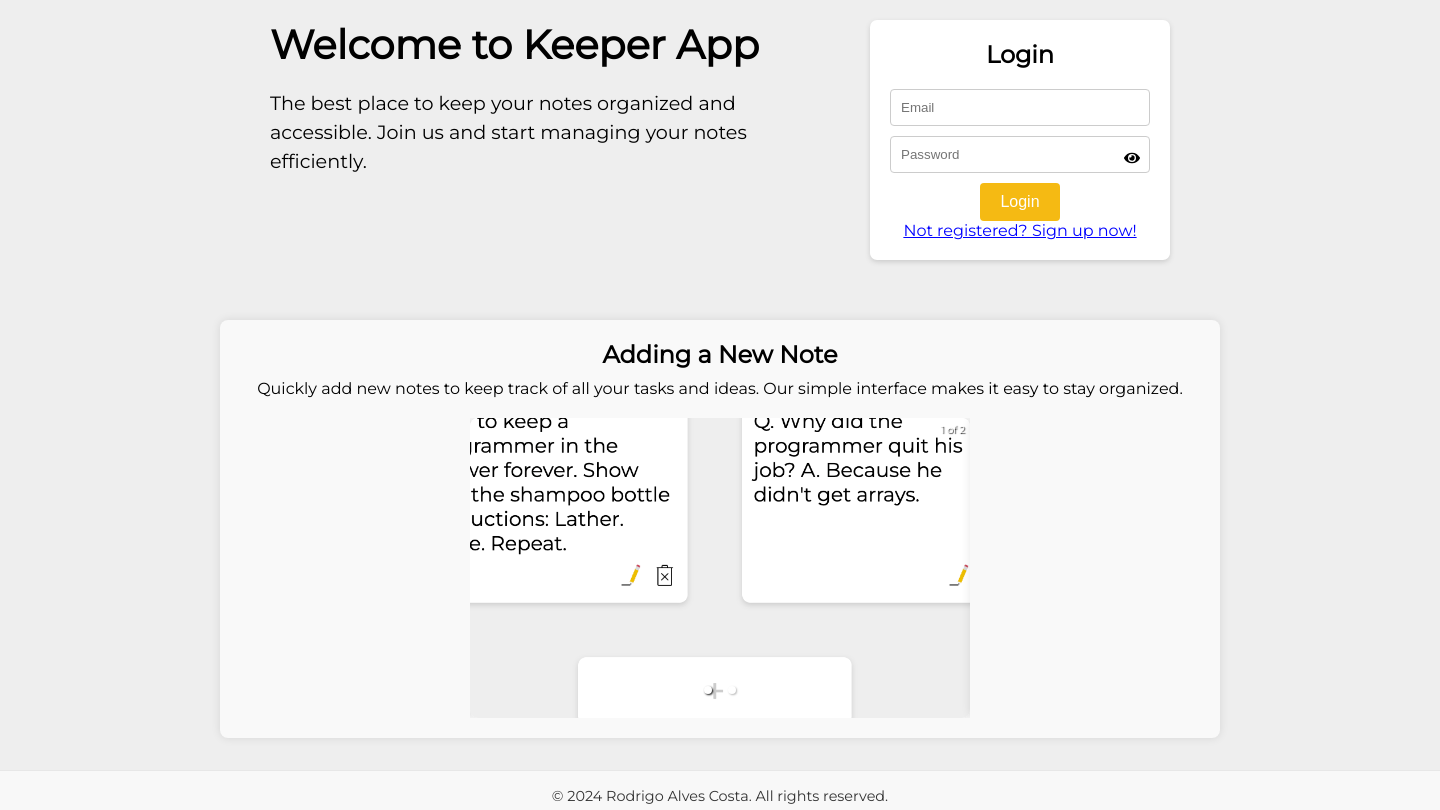
Scenario: App › should edit an existing note
Type "jon@doe.com" into the field with placeholder "Email".
click(1020, 108); type("jon@doe.com")  # box [890,89,1150,126]
Type "123456" into the password field with placeholder "Password".
click(1020, 154); type("123456")  # box [890,136,1150,173]
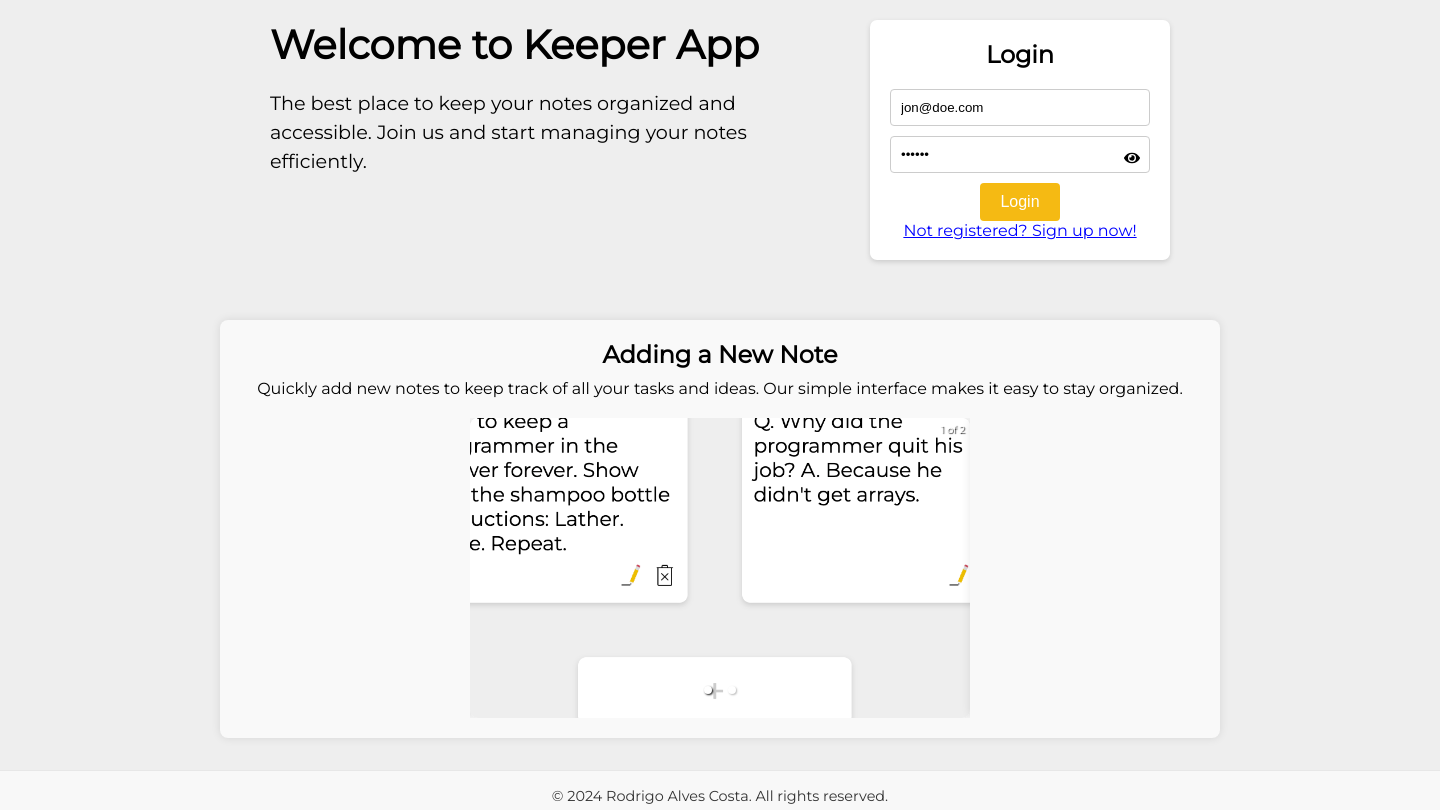
Click the button "Login".
click(1020, 202)  # box [980,183,1060,221]
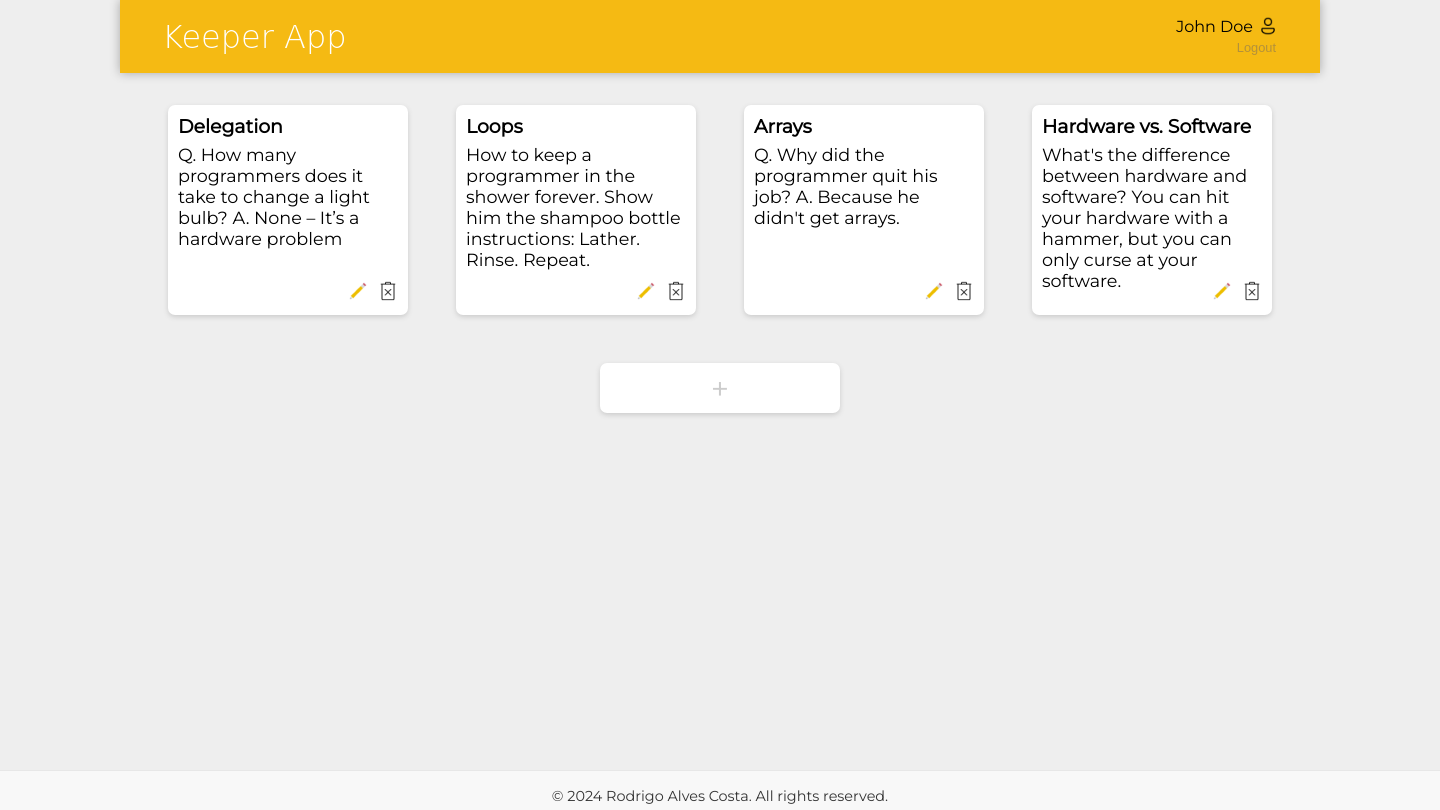
Click the picture with alt text "Edit" below "Delegation".
click(358, 291)  # box [348,281,368,301]
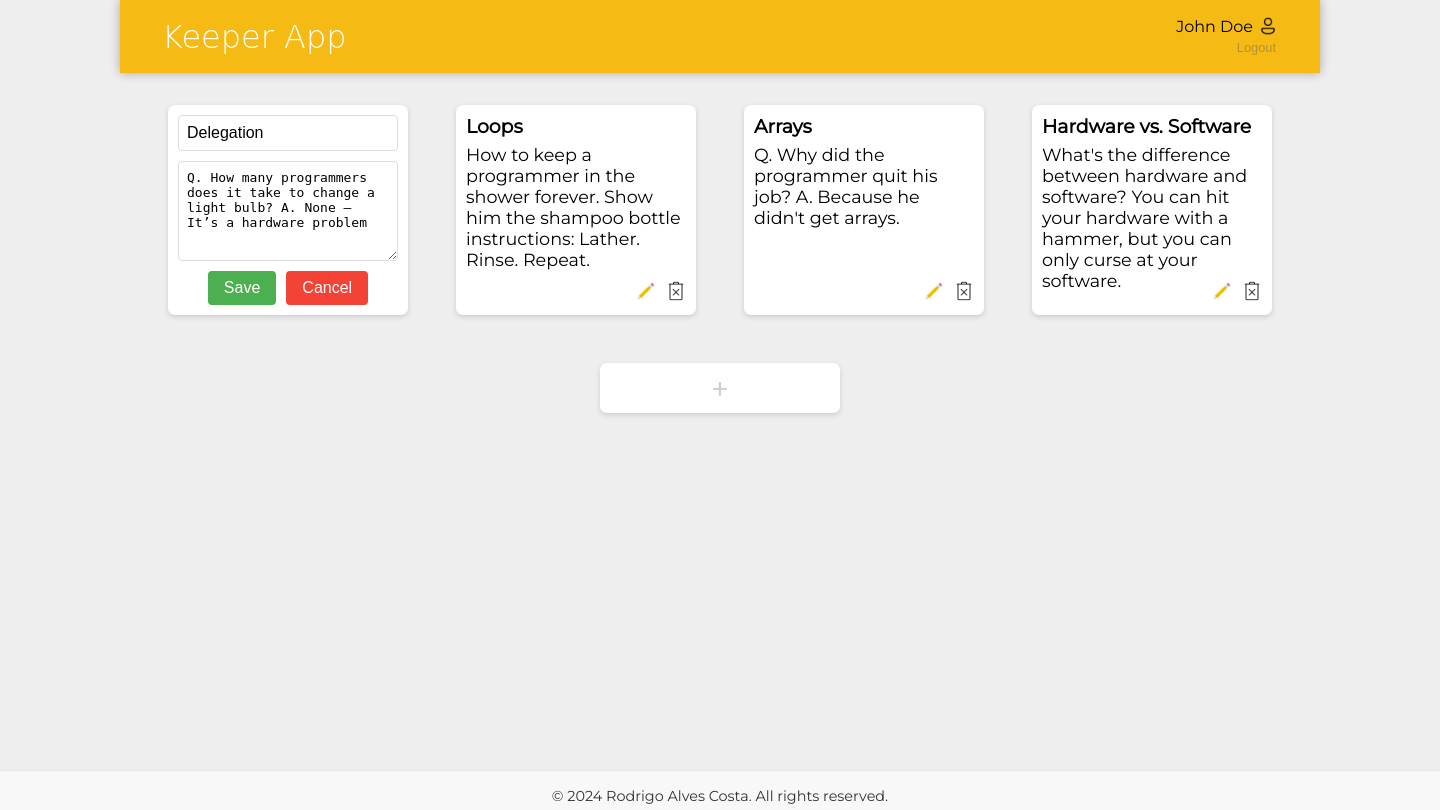
Replace the text in the field with placeholder "Title" with "Edited Title" at (288, 133), box [178,115,398,151]
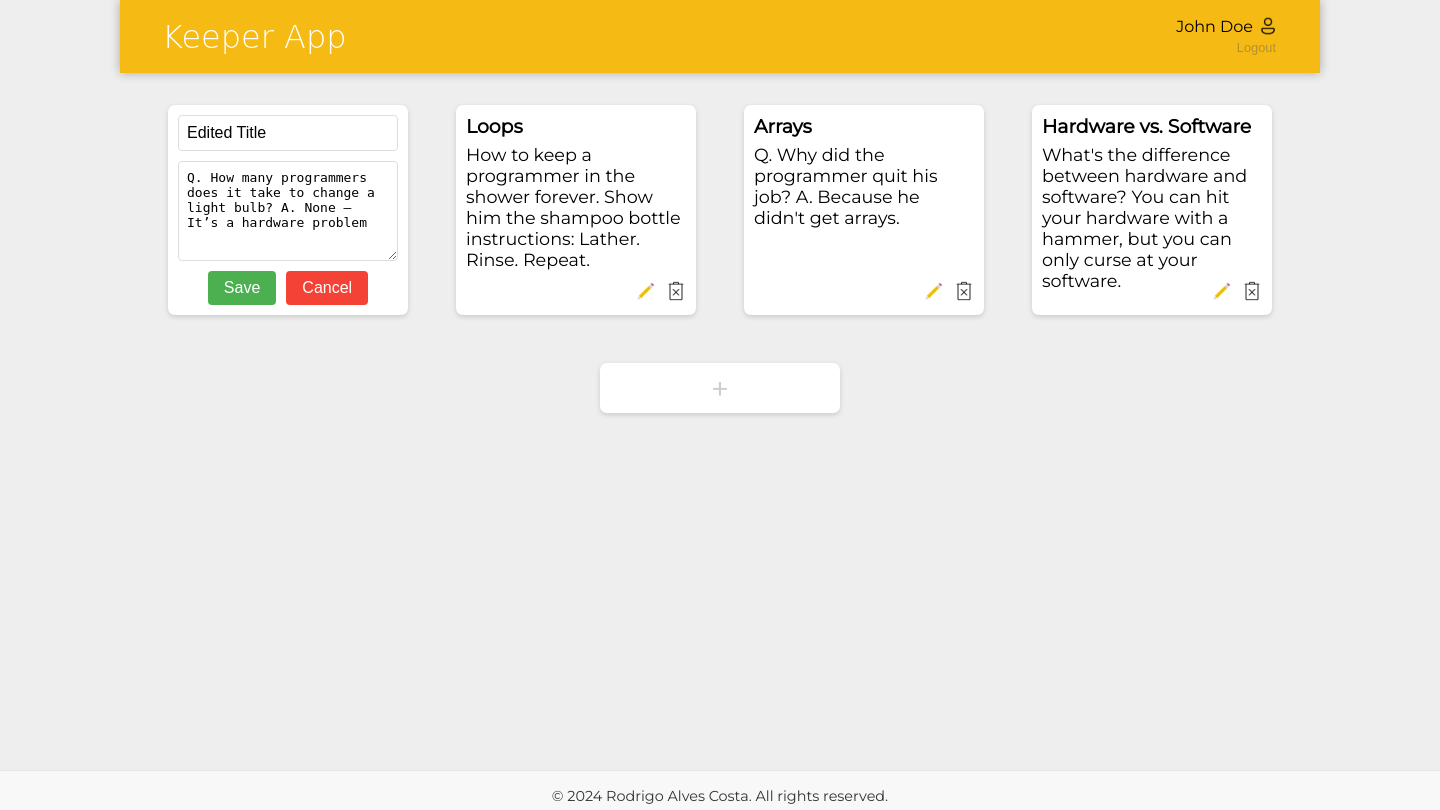
Replace the text in the text box with placeholder "Content" with "Edited Content" at (288, 211), box [178,161,398,261]
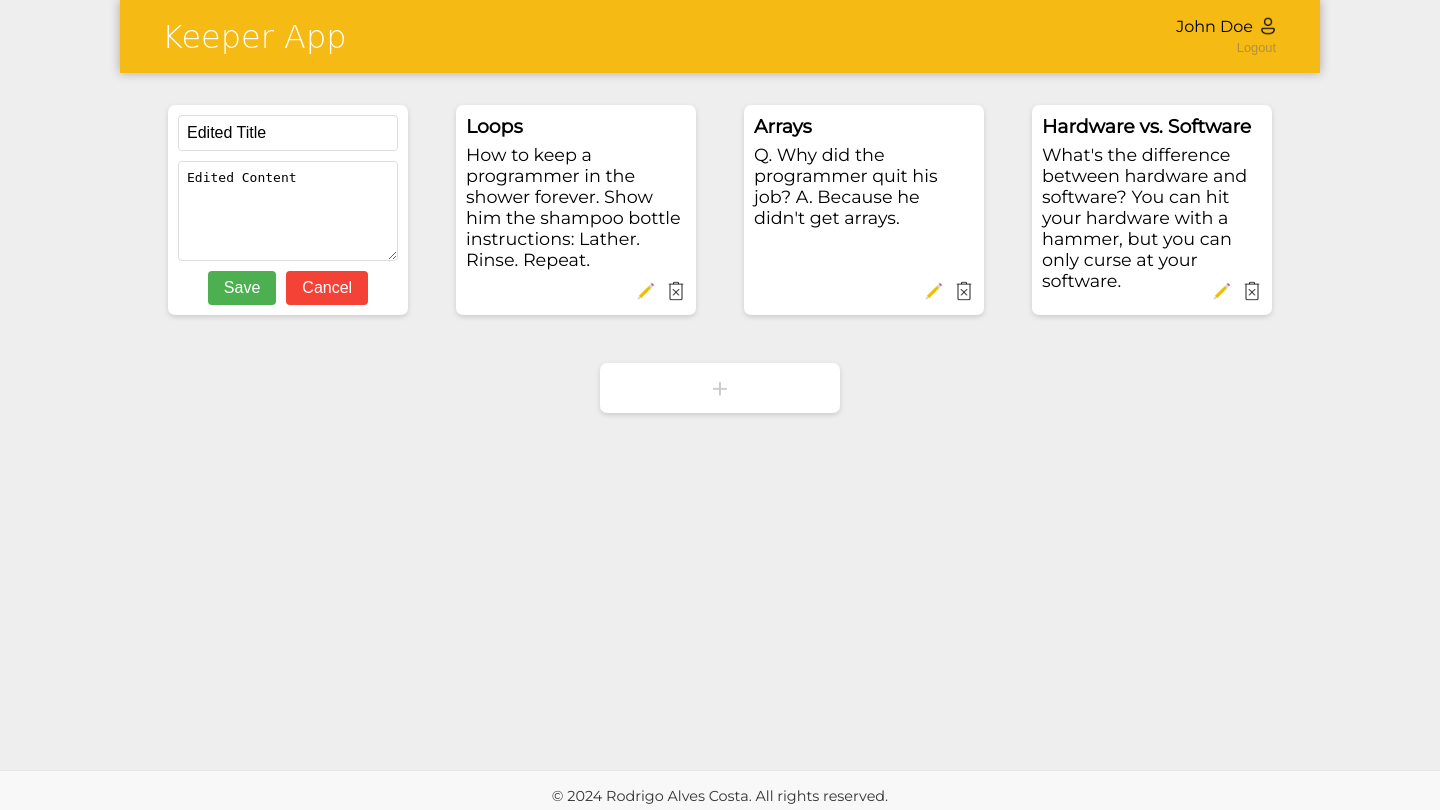
Click the button "Save".
click(242, 288)  # box [208,271,276,305]
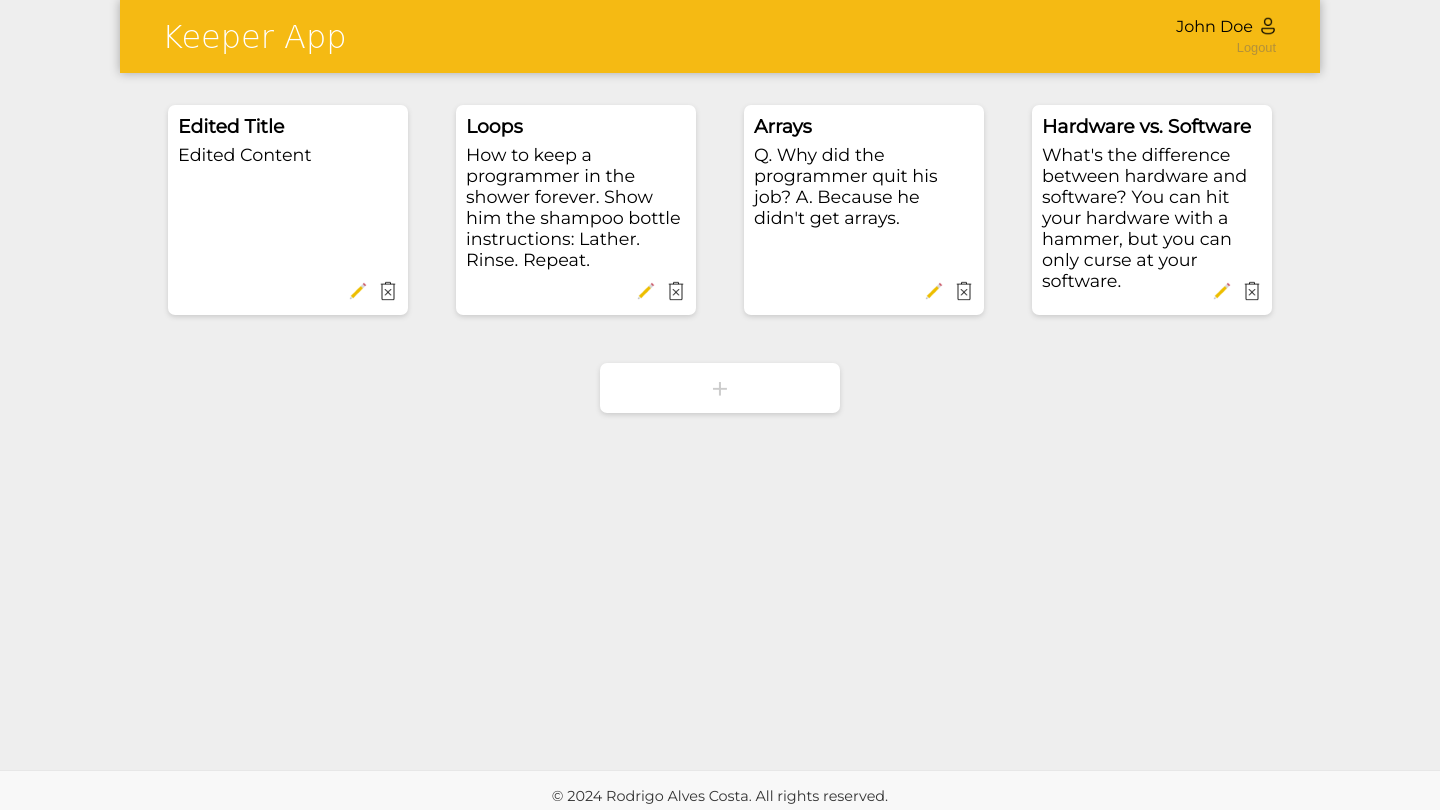
Check: the heading "Edited Title" is shown, box [178,115,284,138]
Check: the text "Edited Content" is shown, box [178,144,312,165]
